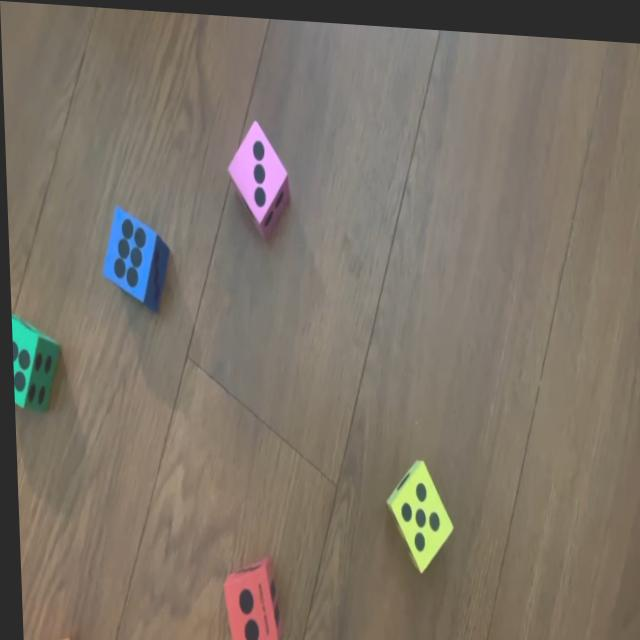cube: (99, 200, 169, 310), (218, 550, 278, 640), (9, 314, 60, 415)
